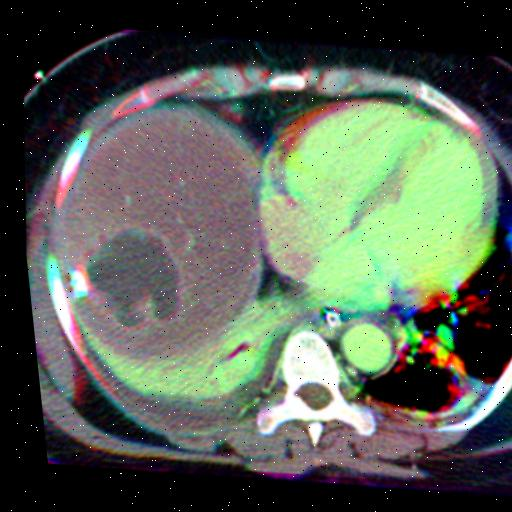Abscess: (79, 229, 170, 325)
